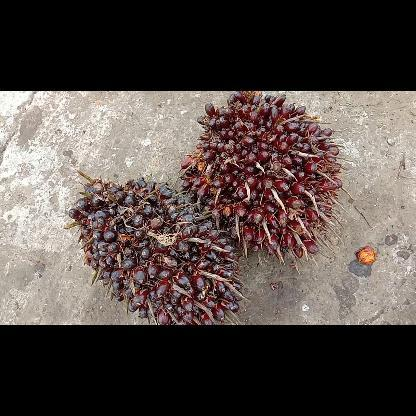Kurang masak: (64, 178, 244, 324)
TBS masak: (178, 91, 346, 263)
